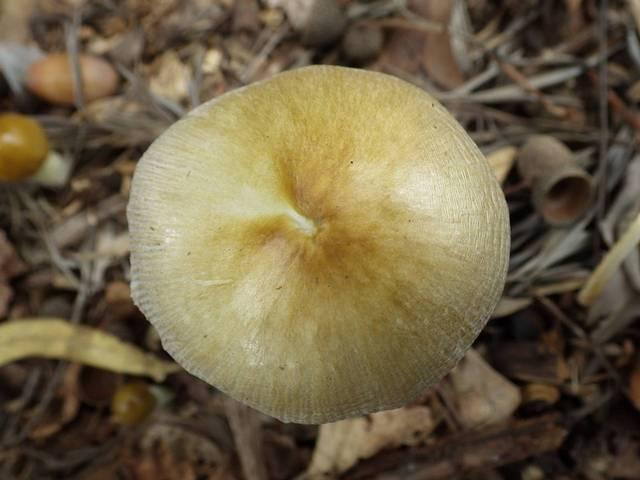Edible Mushroom: (124, 62, 512, 425)
